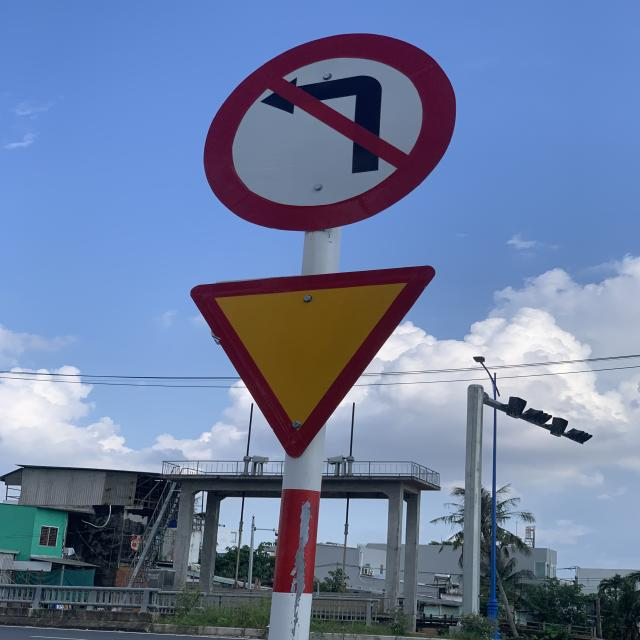Cam_Re_Trai: (208, 31, 453, 230)
Gioi_Han_Toc_Do_25: (199, 264, 431, 452)
